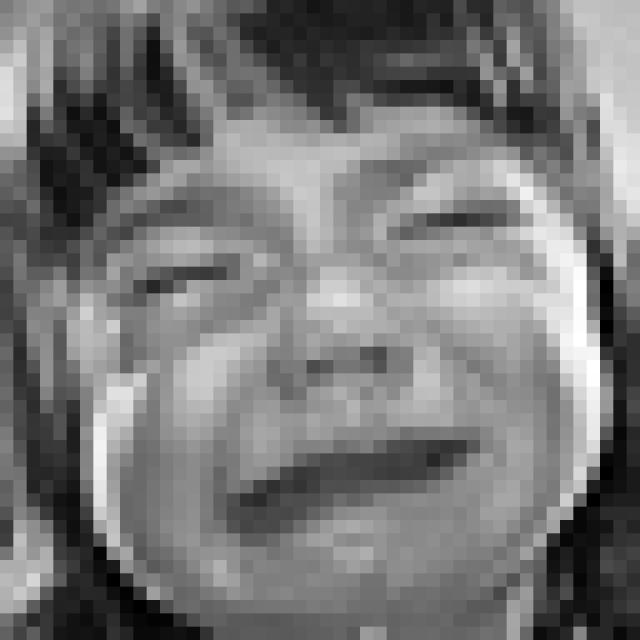sad: (98, 116, 568, 566)
